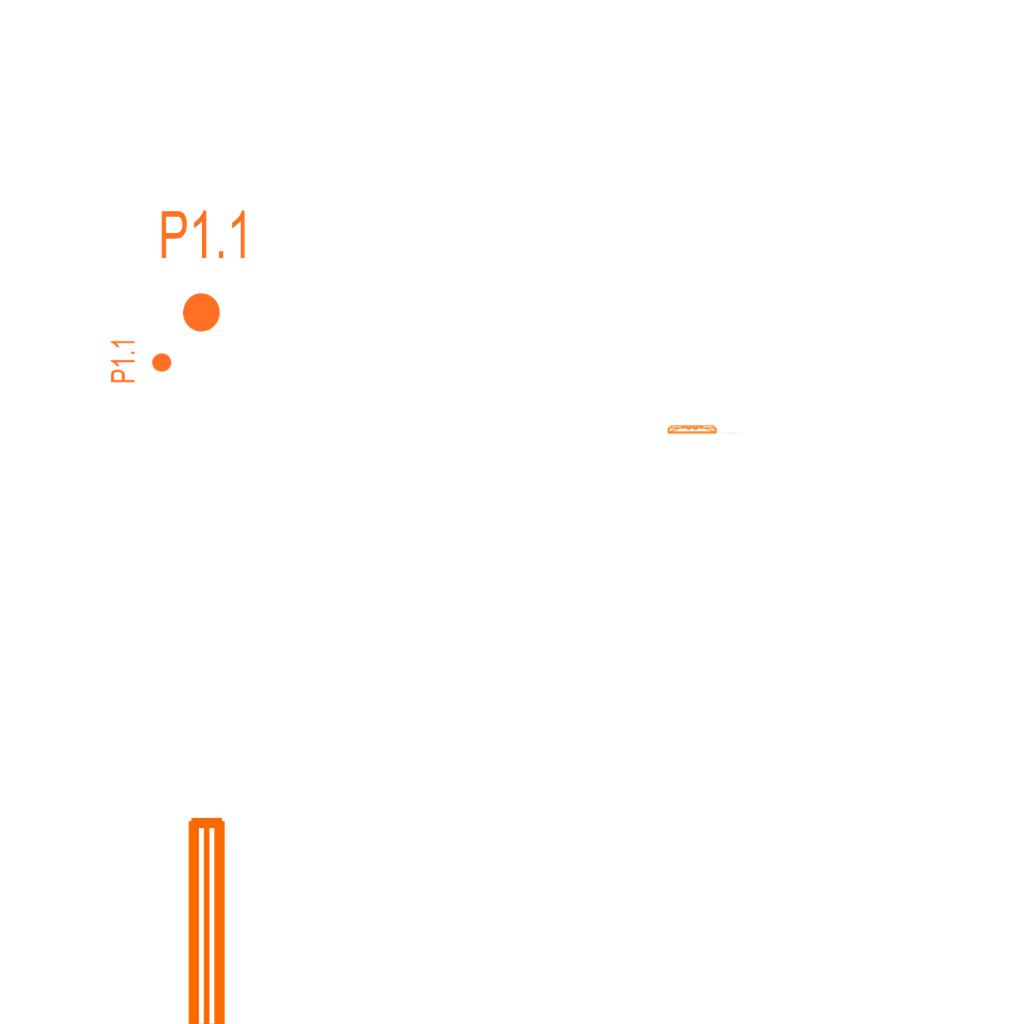Ambulanz_Pendelleuchte_LED: (176, 807, 288, 1024)
Downlight_LED_Einbauleuchten_Flur_2: (158, 207, 251, 335), (109, 338, 173, 384)
Sicherheitsleuchte_Wandeinbau: (665, 423, 744, 435)
